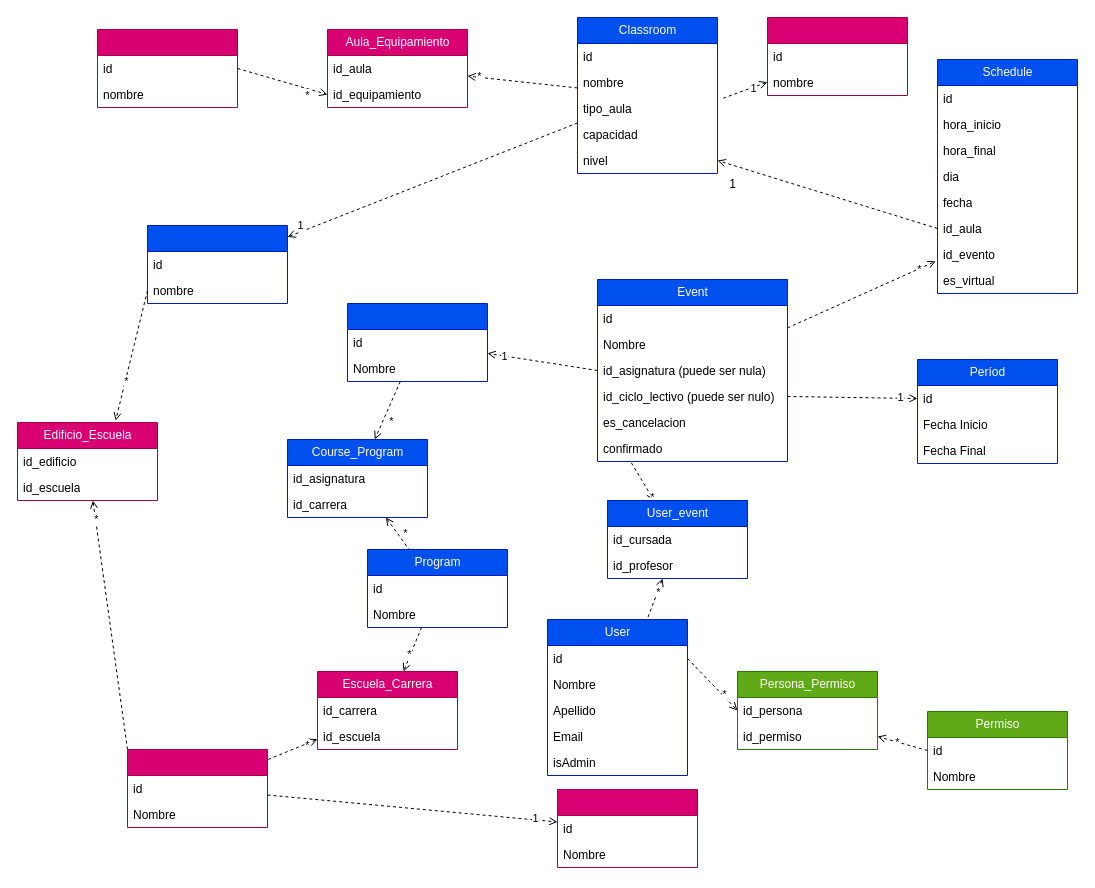
Some shapes in this 1095 by 888 pixel diagram are drawn without their labels. The box of each missing label's shape, as (x1, y1, x2, y2) in pixels:
Building: (146, 224, 288, 304)
Course: (346, 302, 488, 382)
Equipamiento: (96, 28, 238, 108)
Escuela/Facultad: (126, 748, 268, 828)
Tipo Aula: (766, 16, 908, 96)
Universidad: (556, 788, 698, 868)
